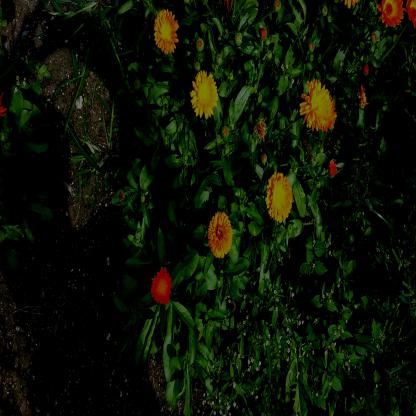marigold: (302, 80, 333, 128), (265, 172, 292, 220), (192, 72, 216, 116), (209, 214, 232, 258), (156, 12, 178, 51), (380, 0, 404, 23)
